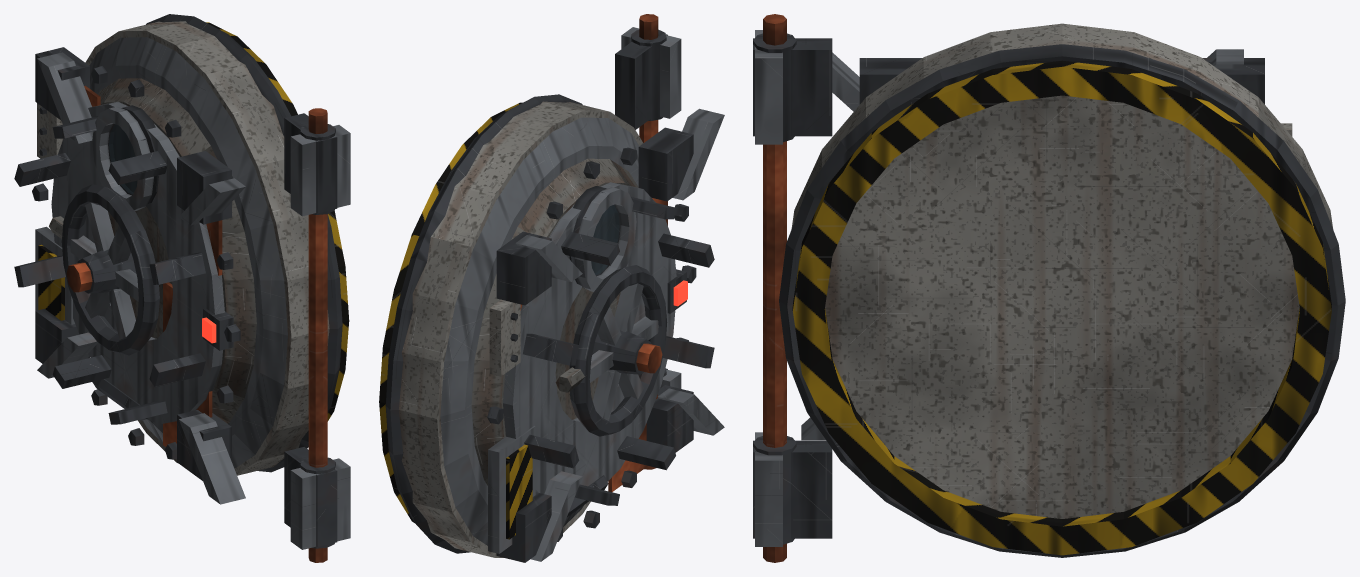
Rendered from airlock_hatch_v2.glb.
The picture shows the model from 3 angles, left to right: view 1: azimuth 30°, elevation 25°; view 2: azimuth 150°, elevation 25°; view 3: azimuth 270°, elevation 25°; orthographic projection. The views are drawn at different scales.
Parts seen in each view (by area): view 1: AirlockHatch_v2; view 2: AirlockHatch_v2; view 3: AirlockHatch_v2.
Part boxes in pixels (left/top/right/bottom): AirlockHatch_v2: left=14, top=14, right=350, bottom=562; AirlockHatch_v2: left=379, top=14, right=724, bottom=562; AirlockHatch_v2: left=753, top=14, right=1345, bottom=562.
Size of the model in its own units: 0.575 by 1.5 by 1.5.
9 materials, 8 textured.
